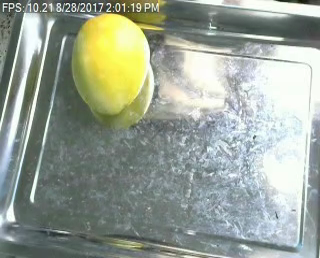Mango: (71, 15, 152, 116)
